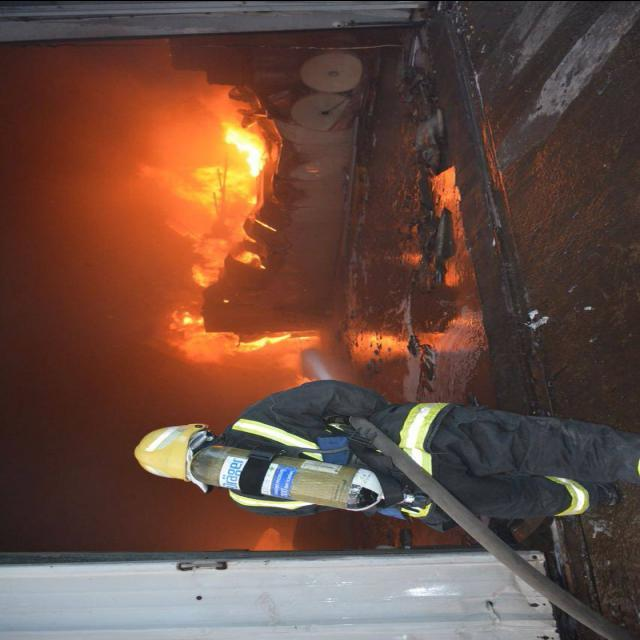Fire: (172, 122, 265, 353)
